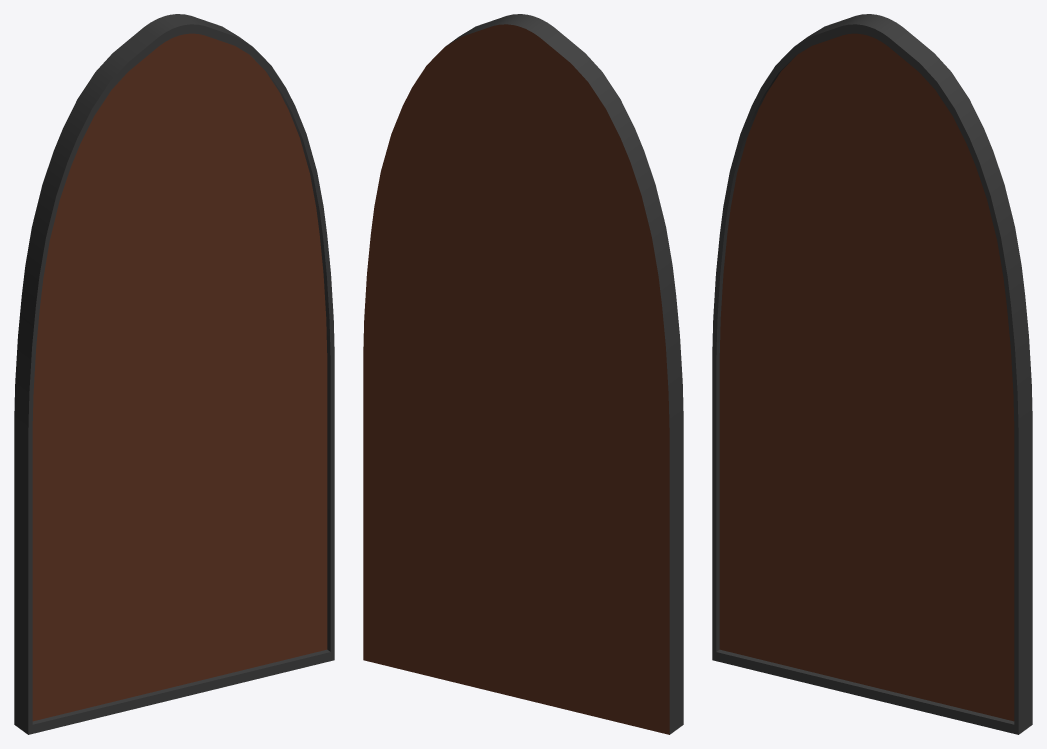
Rendered from porte_chateau.fbx.
3 renders of one model, left to right at view 1: azimuth 30°, elevation 25°; view 2: azimuth 150°, elevation 25°; view 3: azimuth 330°, elevation 25°, orthographic.
Parts seen in each view (by area): view 1: Porte; view 2: Porte; view 3: Porte.
Part boxes in pixels (box(x1,y1,x2,y2)): Porte: box(14, 14, 334, 734); Porte: box(363, 14, 683, 734); Porte: box(712, 14, 1032, 734).
Bounding box in the file's own units: 2549 × 5338 × 204.
